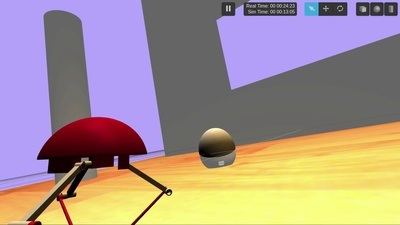mira_robot: (198, 128, 236, 168)
